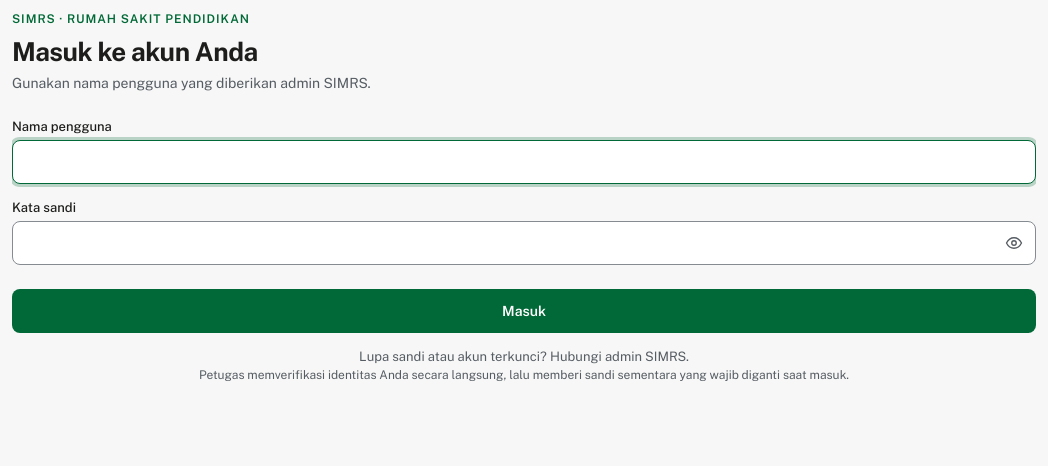
Test: LangkahSandi › akun terkunci tanpa Retry-After: "Coba lagi nanti." dan tombol tetap aktif
This screenshot has width=1048, height=466.
Type "contoh.perawat" into the field with id "nama-pengguna" at (524, 162), box [12,140,1036,184]
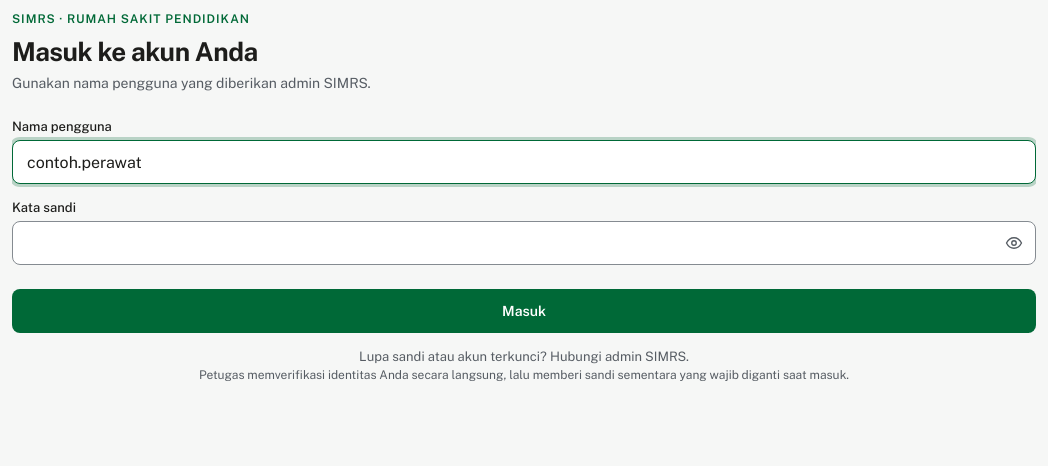
Type "sandi-panjang-sekali" into the password field with id "sandi" at (524, 243), box [12,221,1036,265]
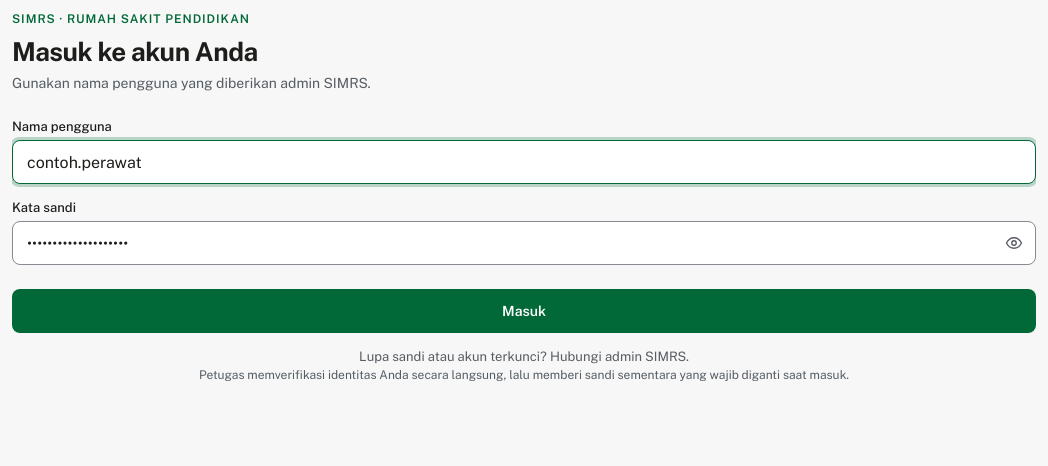
Submit the form, box [12,119,1036,333]
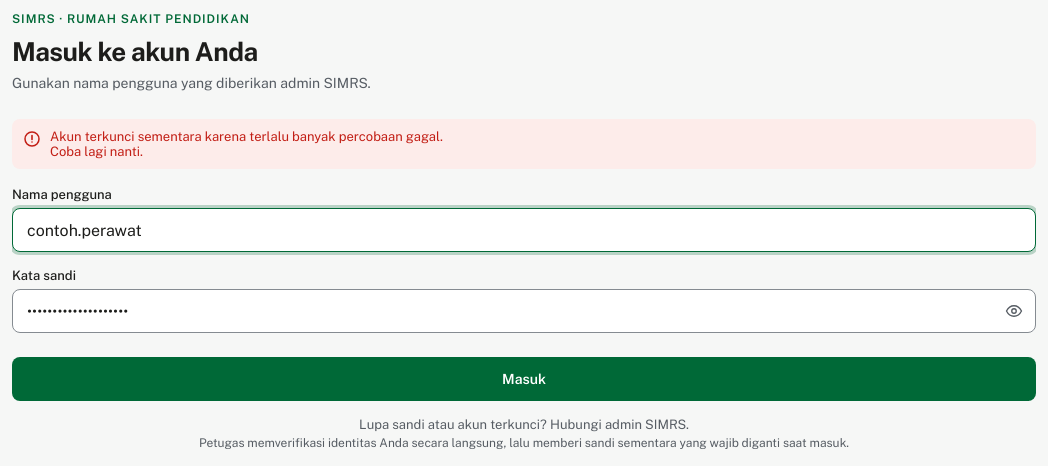
Expected: the submit button is enabled, [12,357,1036,401]
Now the message reads "Akun terkunci sementara karena terlalu banyak percobaan gagal. Coba lagi nanti.", box [12,119,1036,169]
